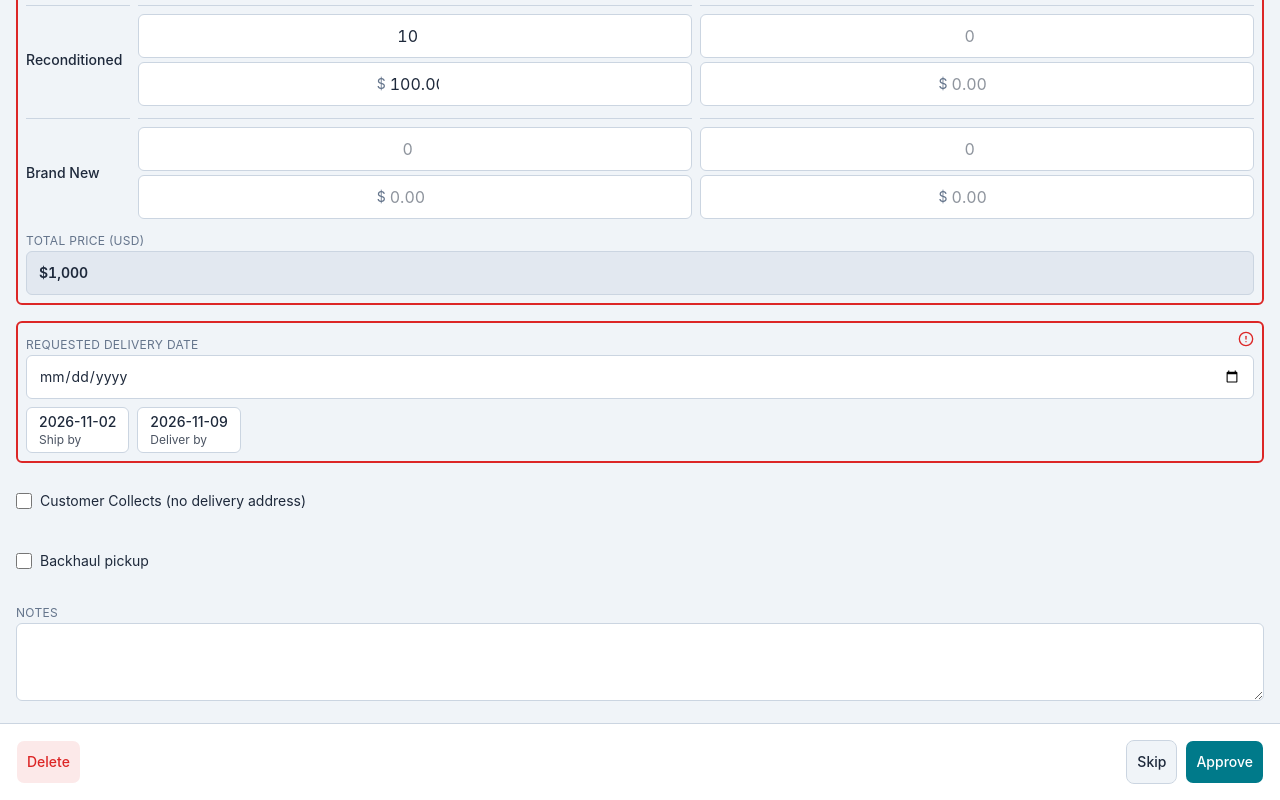
Test: ReviewFieldsPane › turns a field neutral once edited
(page scrolled)
Click the button "2026-11-09 Deliver by" at (189, 430), box top-left (137, 407), bottom-right (241, 453)
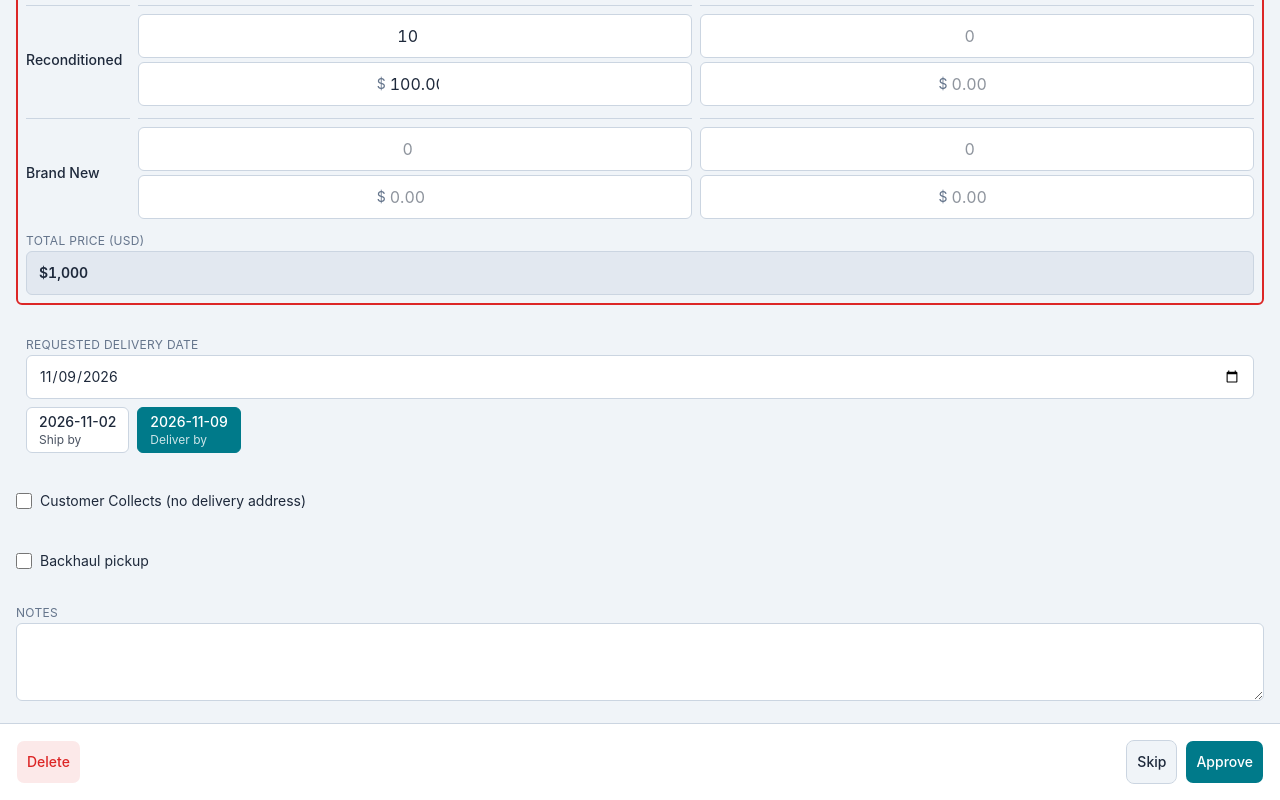
Result: the date field labelled "Requested Delivery Date" holds "2026-11-09" at top-left (26, 355), bottom-right (1254, 399)
